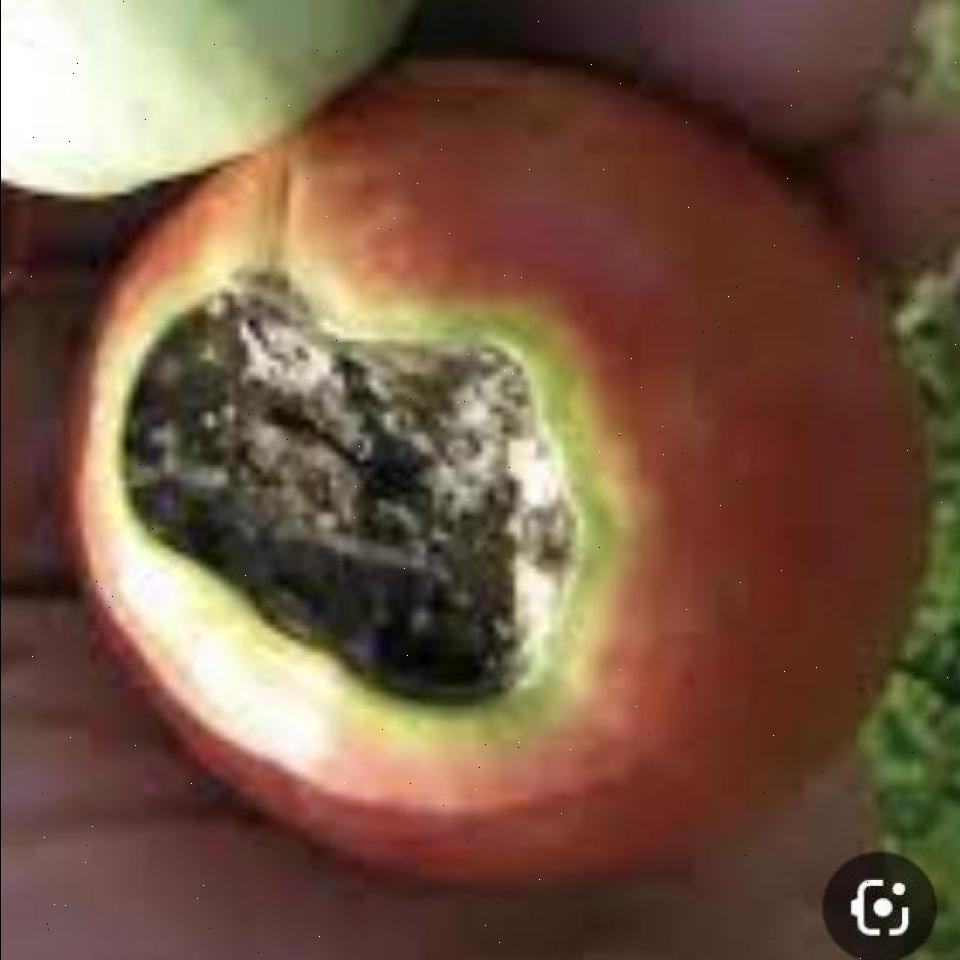Blossom_end_rot: (105, 265, 607, 748)
